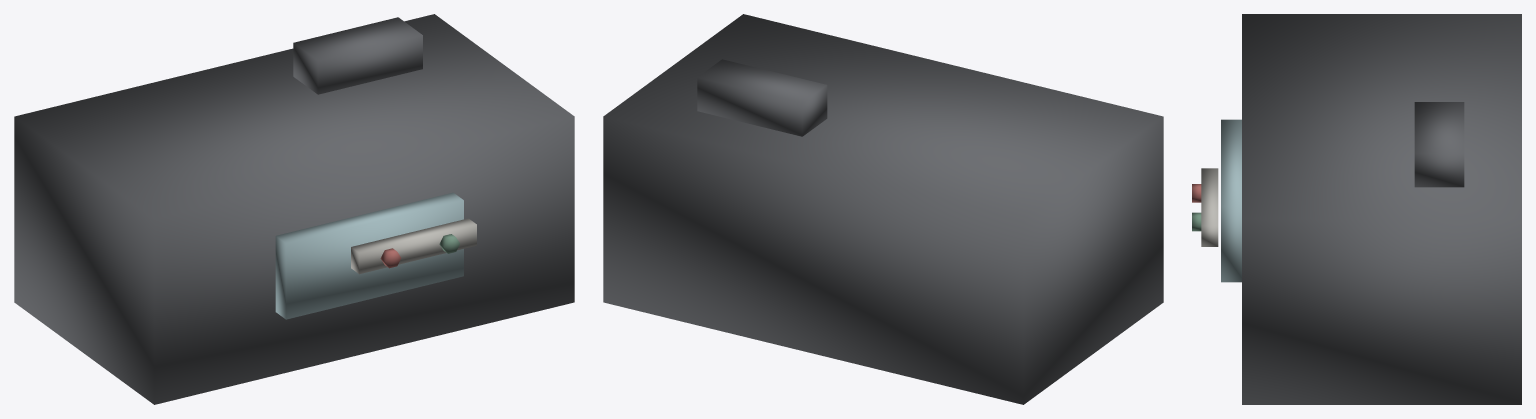
File: cassette_deck__service.glb
The picture shows the model from 3 angles, left to right: view 1: azimuth 30°, elevation 25°; view 2: azimuth 150°, elevation 25°; view 3: azimuth 270°, elevation 25°; orthographic projection.
Visible parts, largest first — view 1: world; view 2: world; view 3: world.
Boxes of the visible parts, left/top/right/bottom form: world: left=14, top=14, right=574, bottom=404; world: left=603, top=14, right=1163, bottom=404; world: left=1192, top=14, right=1521, bottom=404.
Bounding box in the file's own units: 0.52 × 0.26 × 0.3535.
